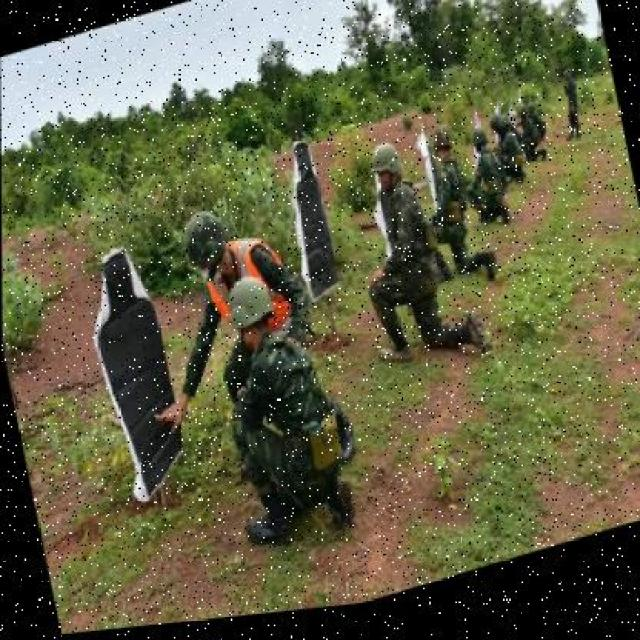MIL_Pax: (208, 274, 367, 574), (174, 185, 320, 401), (353, 152, 470, 382), (414, 122, 491, 306), (457, 126, 518, 257), (545, 65, 593, 169), (481, 130, 530, 219), (514, 121, 546, 182)
